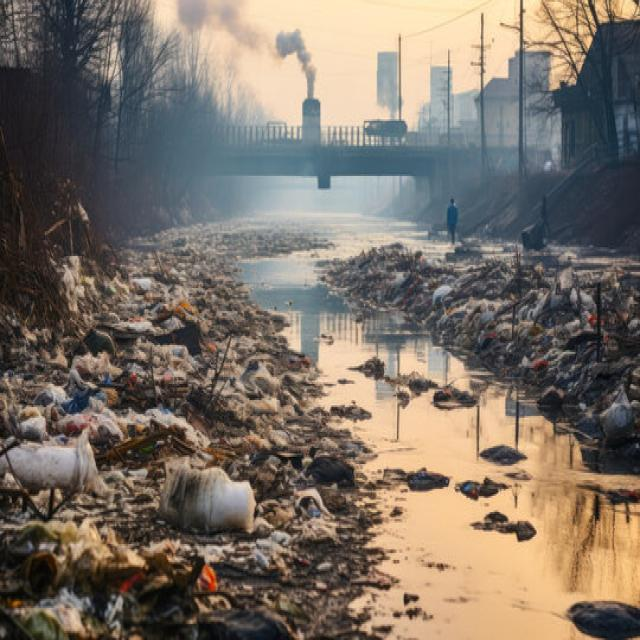trash: (20, 233, 296, 619), (374, 242, 632, 334), (358, 354, 467, 412)
